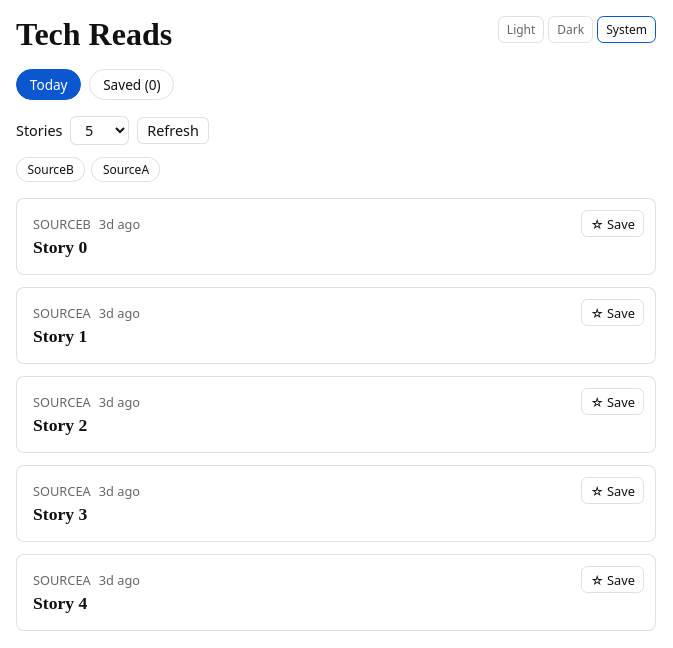
Test case: App › shows a story's summary and a working external link when selected, then returns to the list on back
The width and height of the screenshot is (673, 648).
Click the heading "Story 0".
click(60, 247)  # box [33,237,87,257]
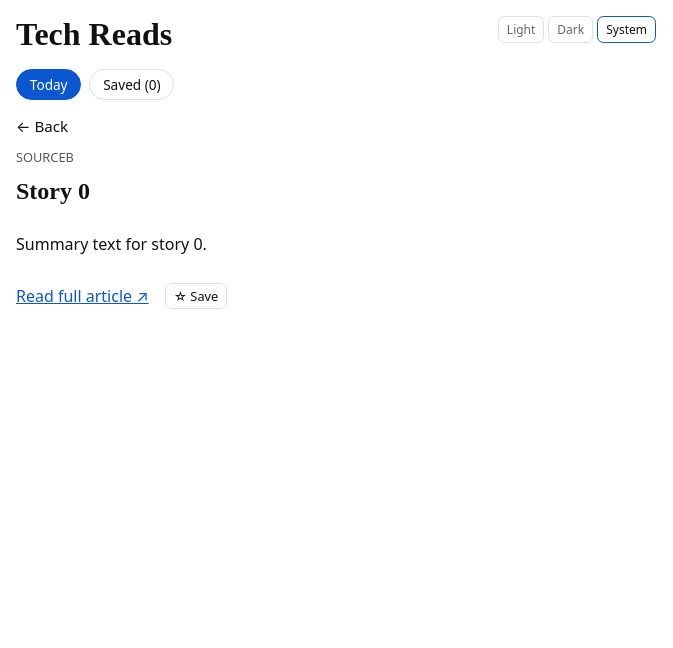
Expected: the text "Summary text for story 0." is shown, [16,233,207,255]
Click the button "← Back".
click(42, 126)  # box [16,116,68,136]
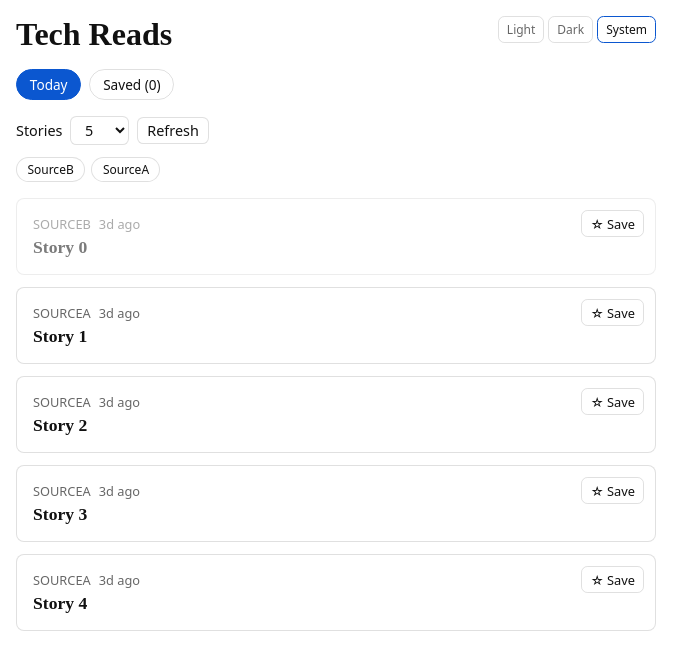
Expected: the number of list items is 5, [16,198,656,275]; [16,287,656,364]; [16,376,656,453]; [16,465,656,542]; [16,554,656,631]
